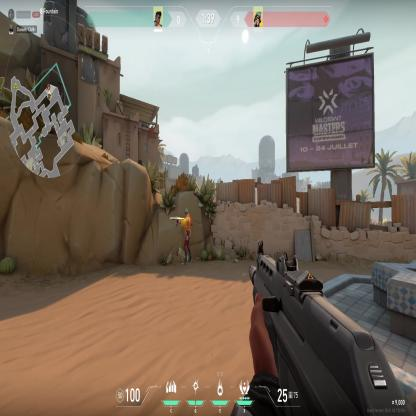enemy: (176, 206, 193, 267)
